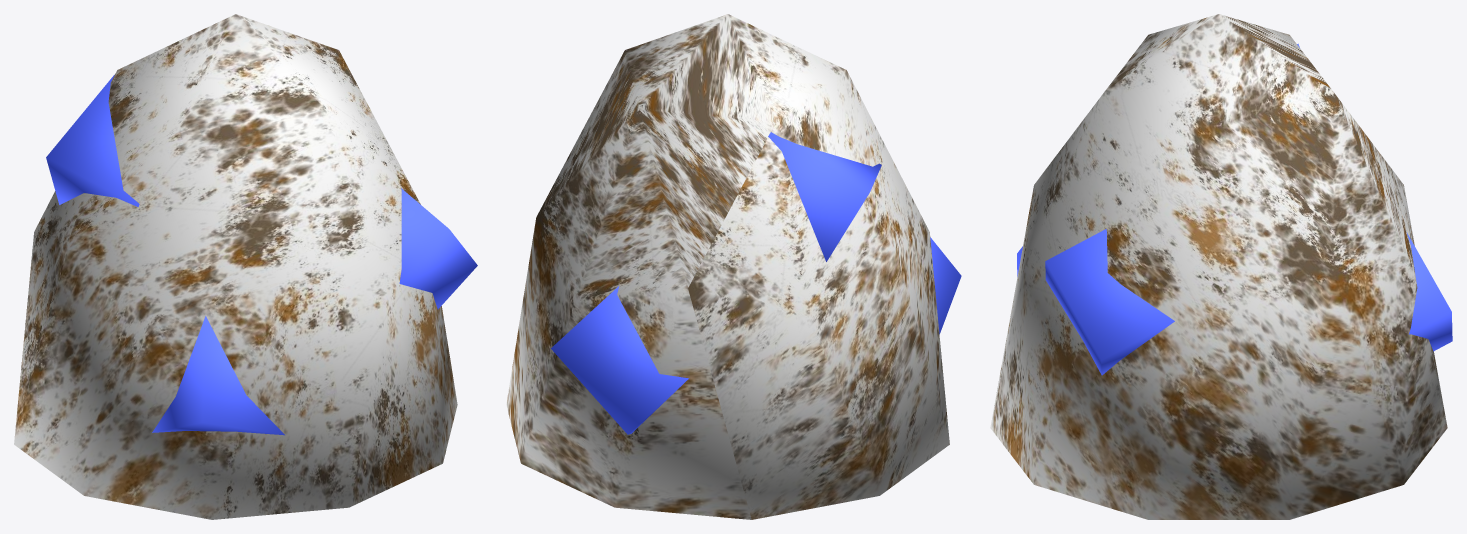
File: Mineral_Blue.fbx
The picture shows the model from 3 angles, left to right: view 1: azimuth 30°, elevation 25°; view 2: azimuth 150°, elevation 25°; view 3: azimuth 270°, elevation 25°; orthographic projection.
Parts seen in each view (by area): view 1: Icosphere, Cube.003; view 2: Icosphere, Cube.003; view 3: Icosphere, Cube.003.
Part boxes in pixels (x1,y1,x2,y2): Icosphere: (14,14,457,519); Cube.003: (46,75,477,435); Icosphere: (506,14,949,519); Cube.003: (551,132,961,434); Icosphere: (990,14,1447,519); Cube.003: (1017,43,1452,375).
Size of the model in its own units: 1.9 by 2 by 2.02.
2 materials, 1 textured.
